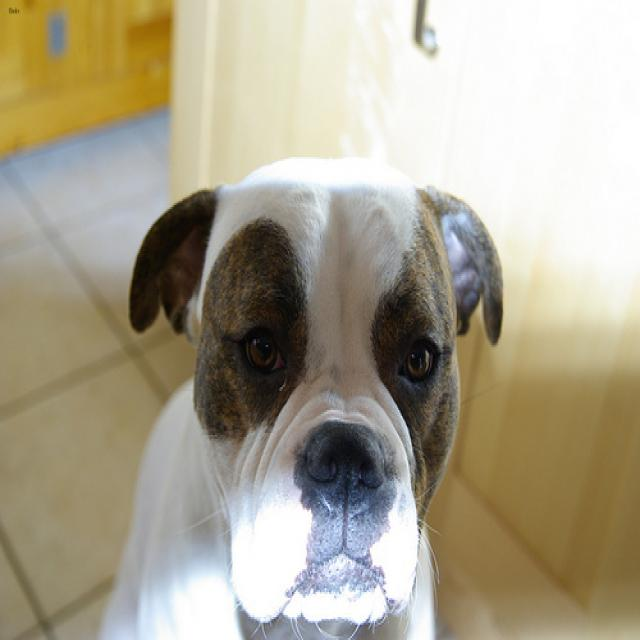dog-american_bulldog: (93, 148, 512, 636)
